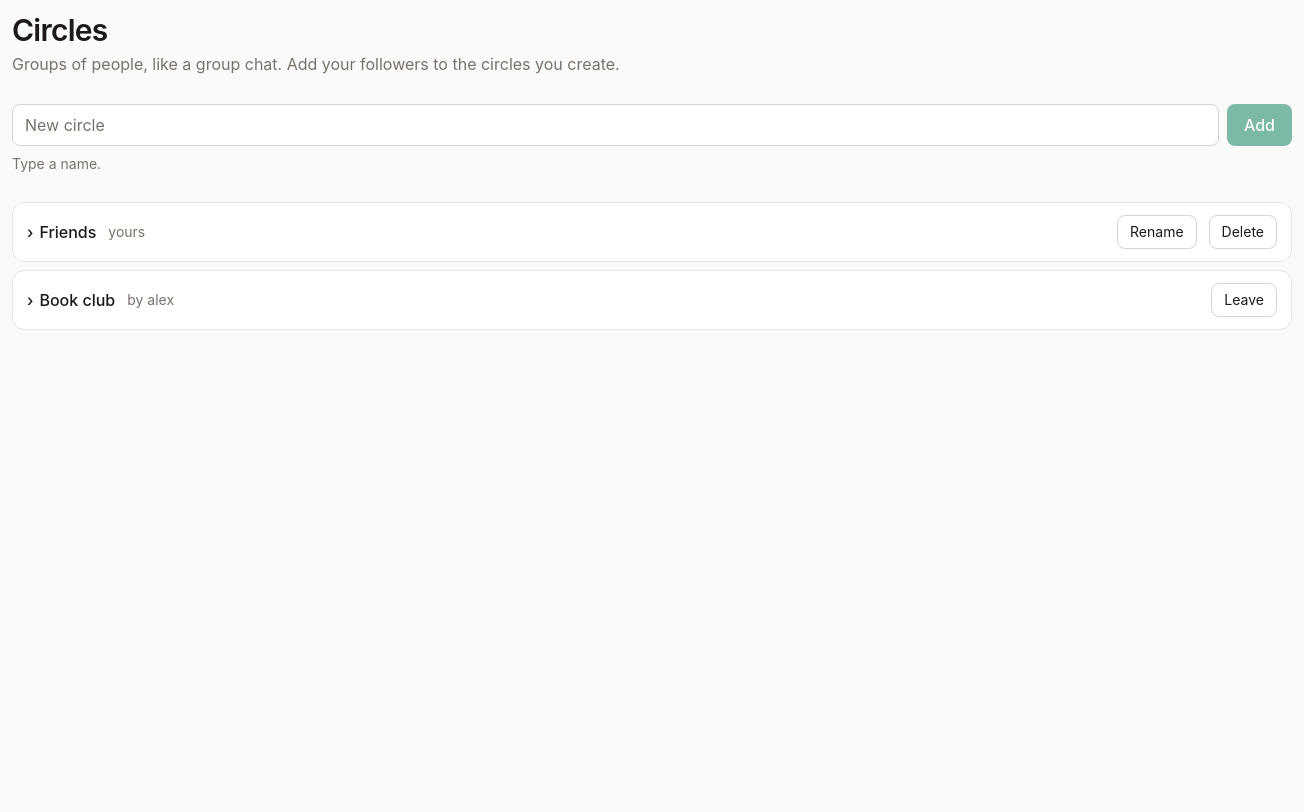
Scenario: Circles › shows an error in the row when a change fails
Click the button "› Friends" at (62, 232), box [27, 220, 96, 244]
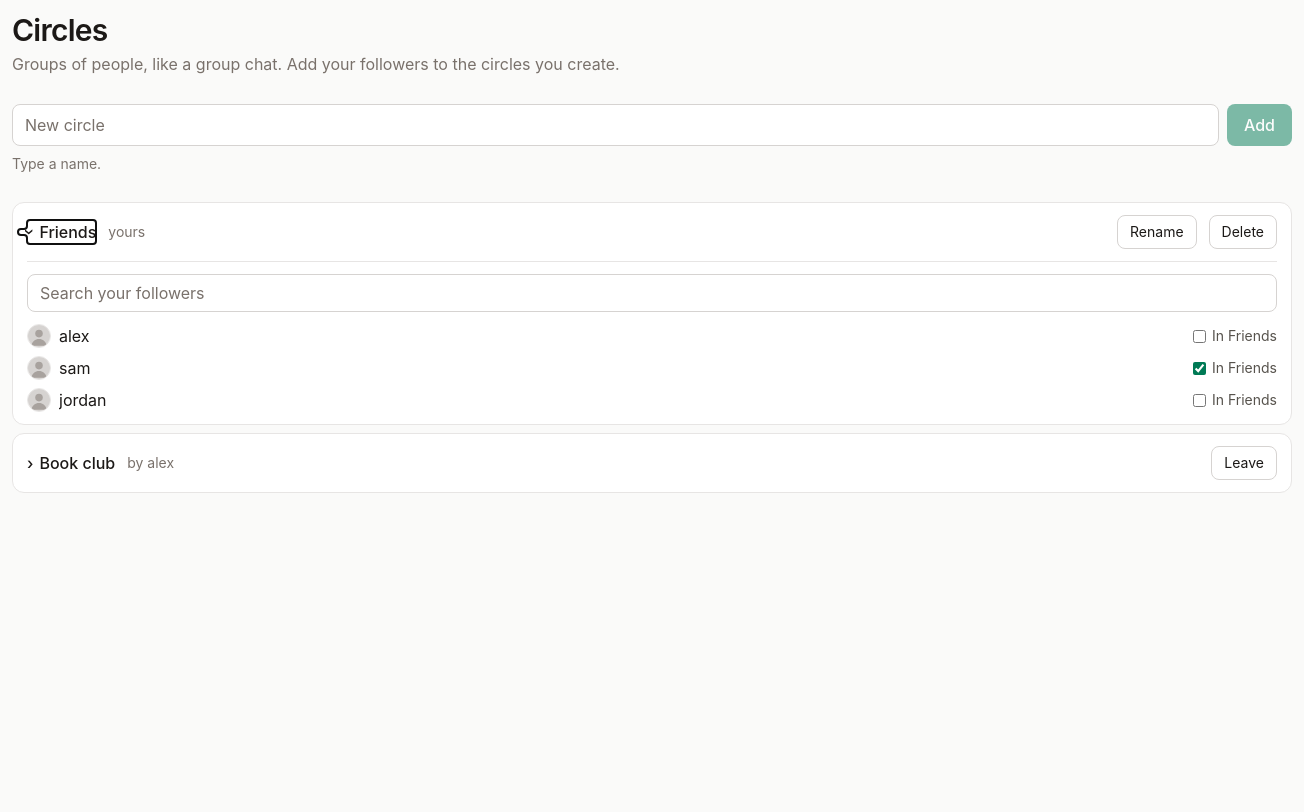
Click the checkbox named "alex in Friends" at (1200, 336), box [1193, 330, 1206, 342]
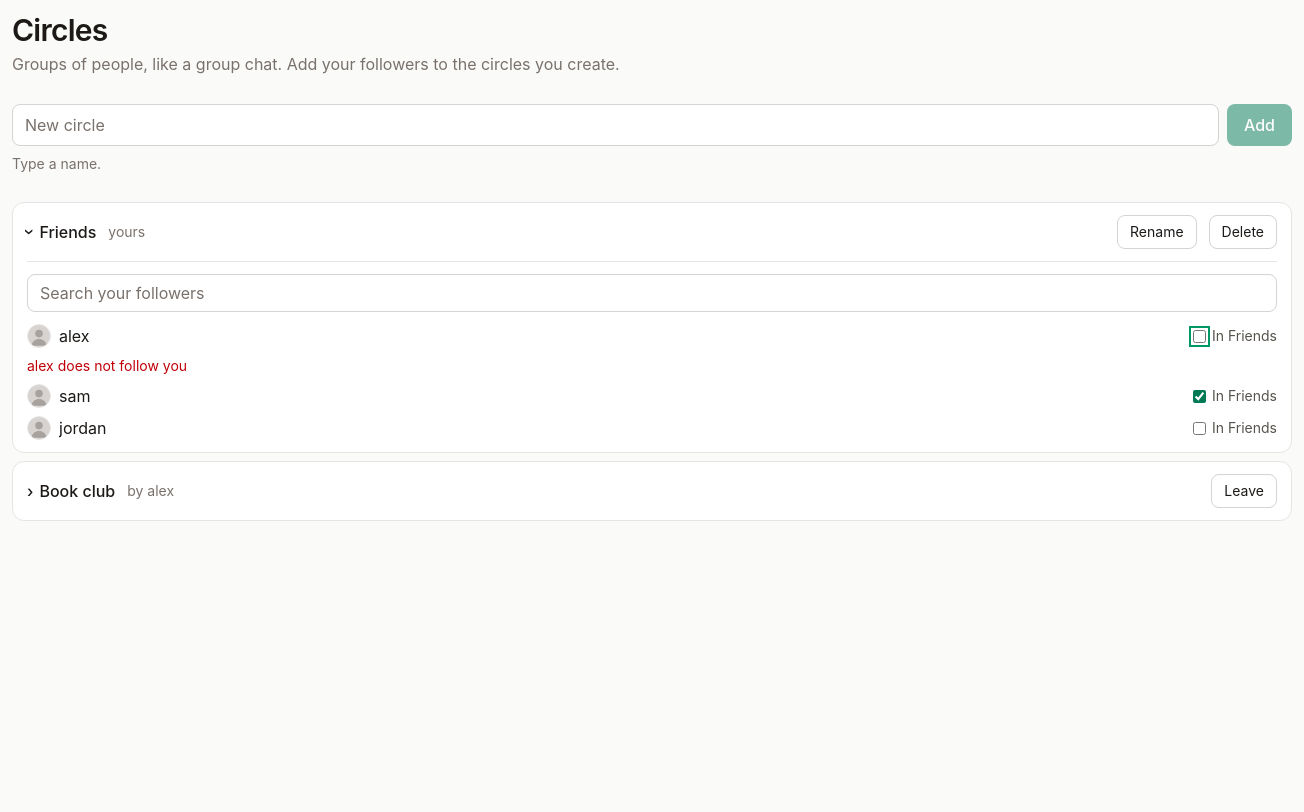
Expected: the checkbox named "alex in Friends" is not checked, [1193, 330, 1206, 342]
Expected: the message reads "alex does not follow you", [27, 357, 187, 374]
Click the button with aria-label "Rename Friends" at (1157, 232), box [1117, 215, 1196, 249]
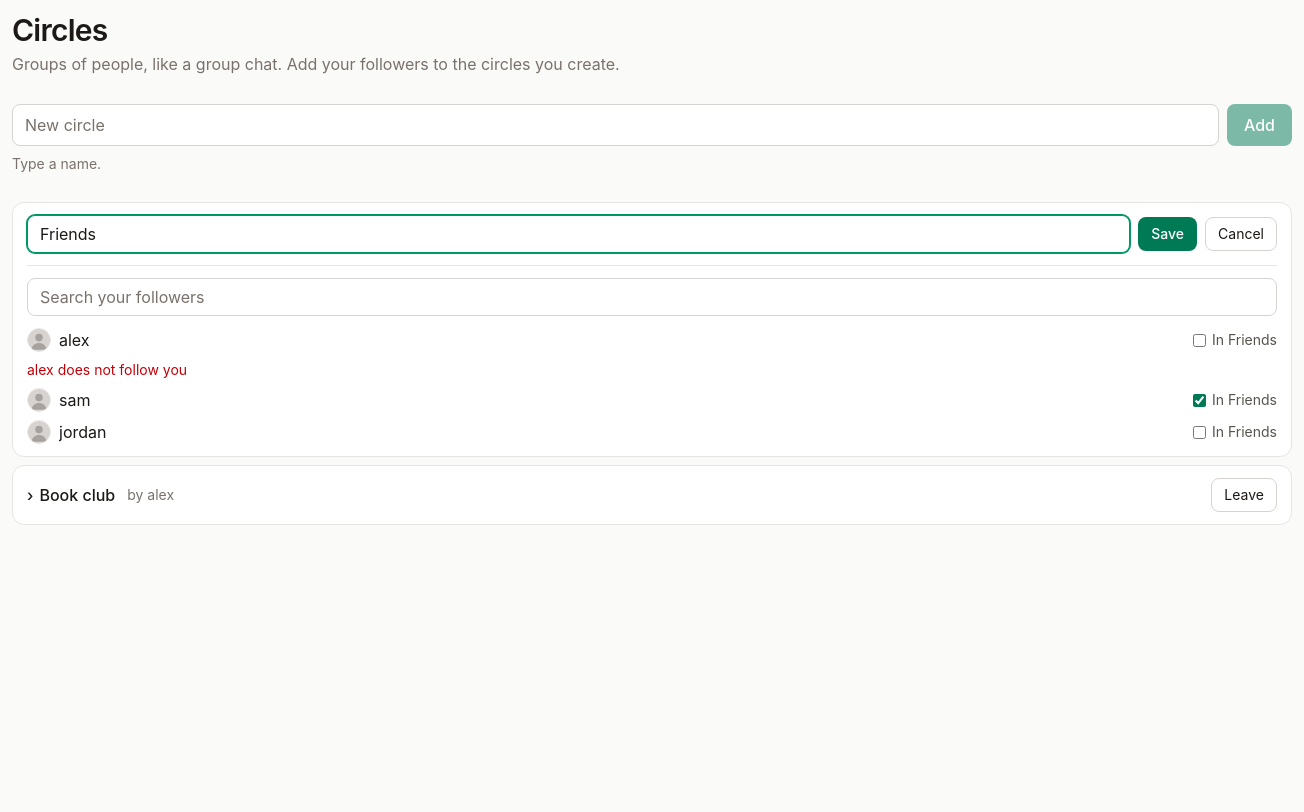
Type "!" into the field named "New name for Friends" at (579, 234), box [27, 215, 1130, 253]
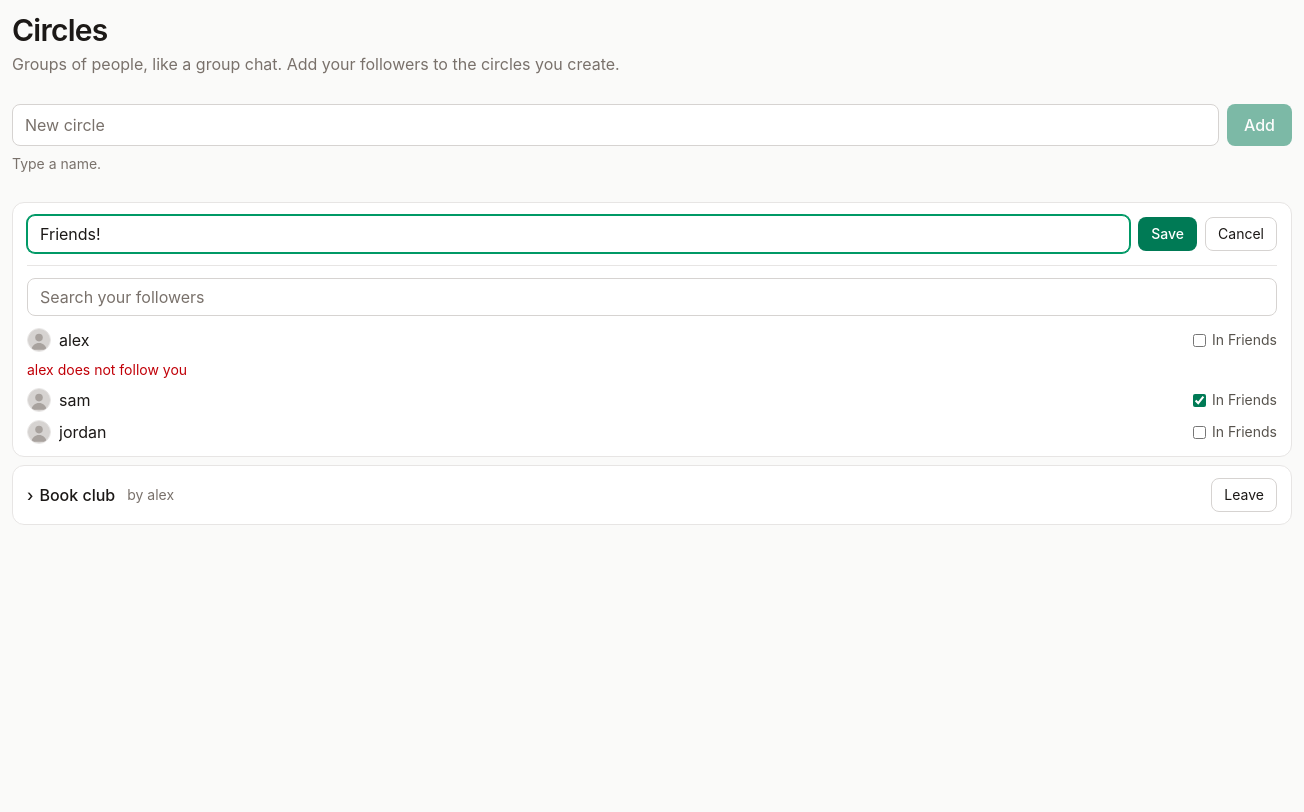
Click the button "Save" at (1168, 234), box [1138, 217, 1197, 251]
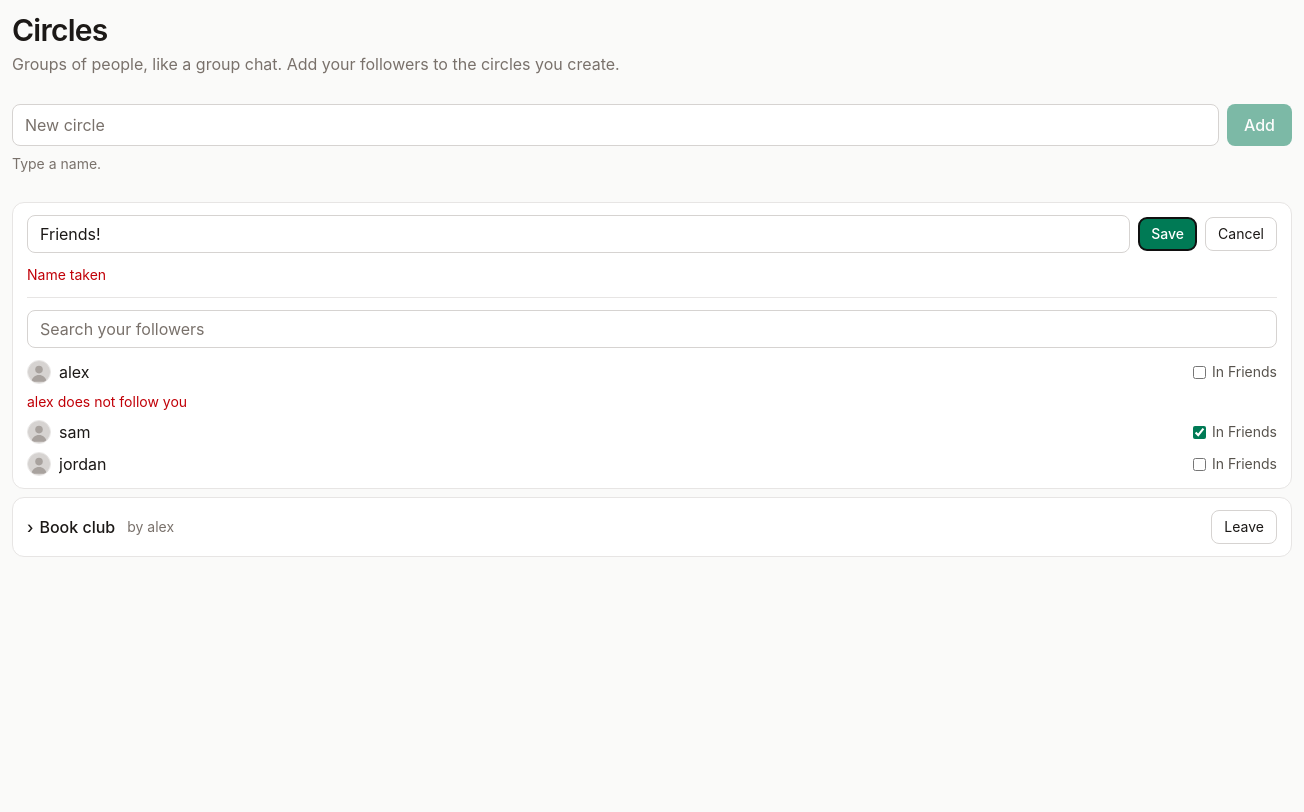
Expected: the field named "New name for Friends" holds "Friends!", [27, 215, 1130, 253]
Expected: the message "Name taken" is shown, [27, 266, 106, 283]
